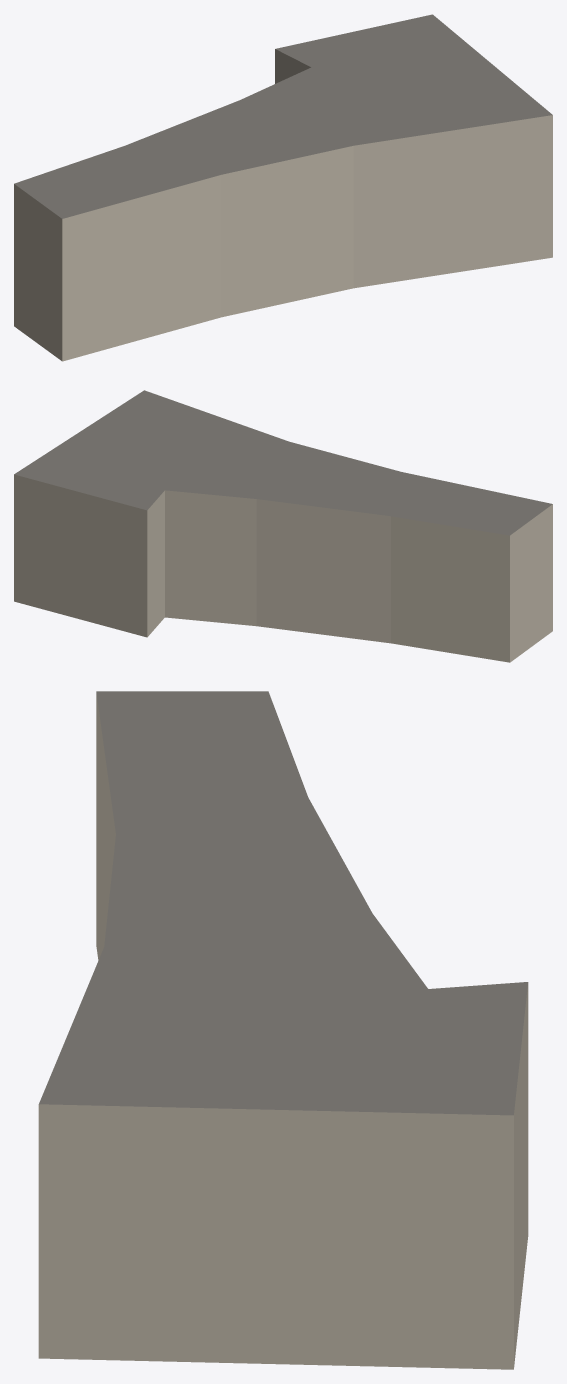
3 views of the same model, one above another, from view 1: azimuth 30°, elevation 25°; view 2: azimuth 150°, elevation 25°; view 3: azimuth 270°, elevation 25° (orthographic). The views are drawn at different scales.
Visible parts, largest first — view 1: HP-w1515071141; view 2: HP-w1515071141; view 3: HP-w1515071141.
Part boxes in pixels (x1,y1,x2,y2): HP-w1515071141: (14,14,552,361); HP-w1515071141: (14,390,552,662); HP-w1515071141: (38,691,528,1369).
Bounding box in the file's own units: 64.4 × 18 × 31.4.
